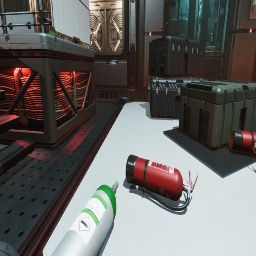0: (51, 181, 119, 256), (47, 31, 56, 37)
FireExtinguisher ]: (126, 154, 198, 211), (229, 129, 256, 154), (251, 147, 256, 157)
NitrogenTank ,: (0, 240, 19, 256)
SafetySwitchPanel ,: (247, 0, 256, 20)
